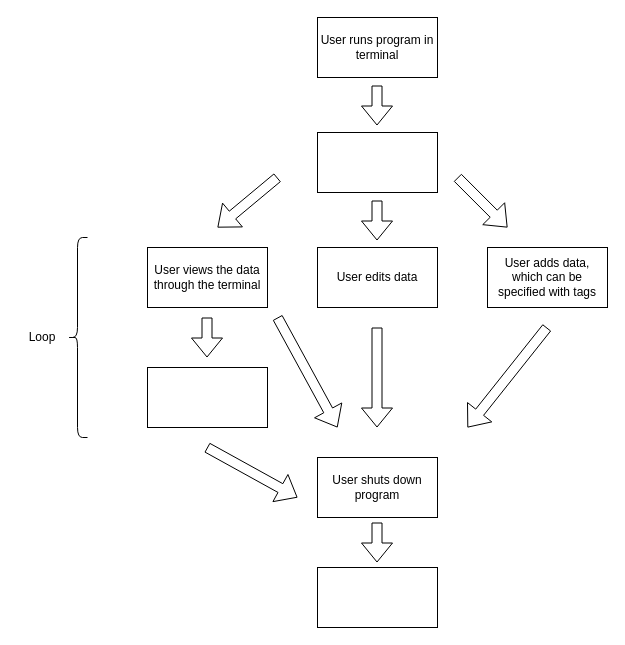
The diagram is 625 pixels wide and 645 high, and some of its shapes have lost their labels. Here are the shapes that lost their labels. From the top down, the centre of each, then its label:
(377,162): Terminal reads the data from the file
(207,397): User sorts through data with a specific tag
(377,597): Program writes data to file and closes
